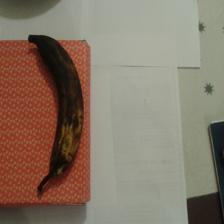Banana Rotten: (26, 19, 90, 191)
